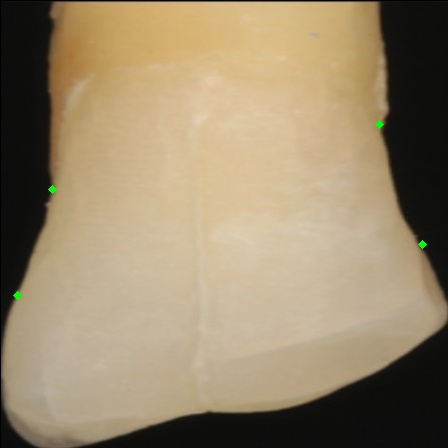coin_1: (379, 124, 399, 145)
coin_2: (422, 244, 442, 265)
coin_3: (52, 189, 72, 209)
coin_4: (17, 295, 37, 315)
